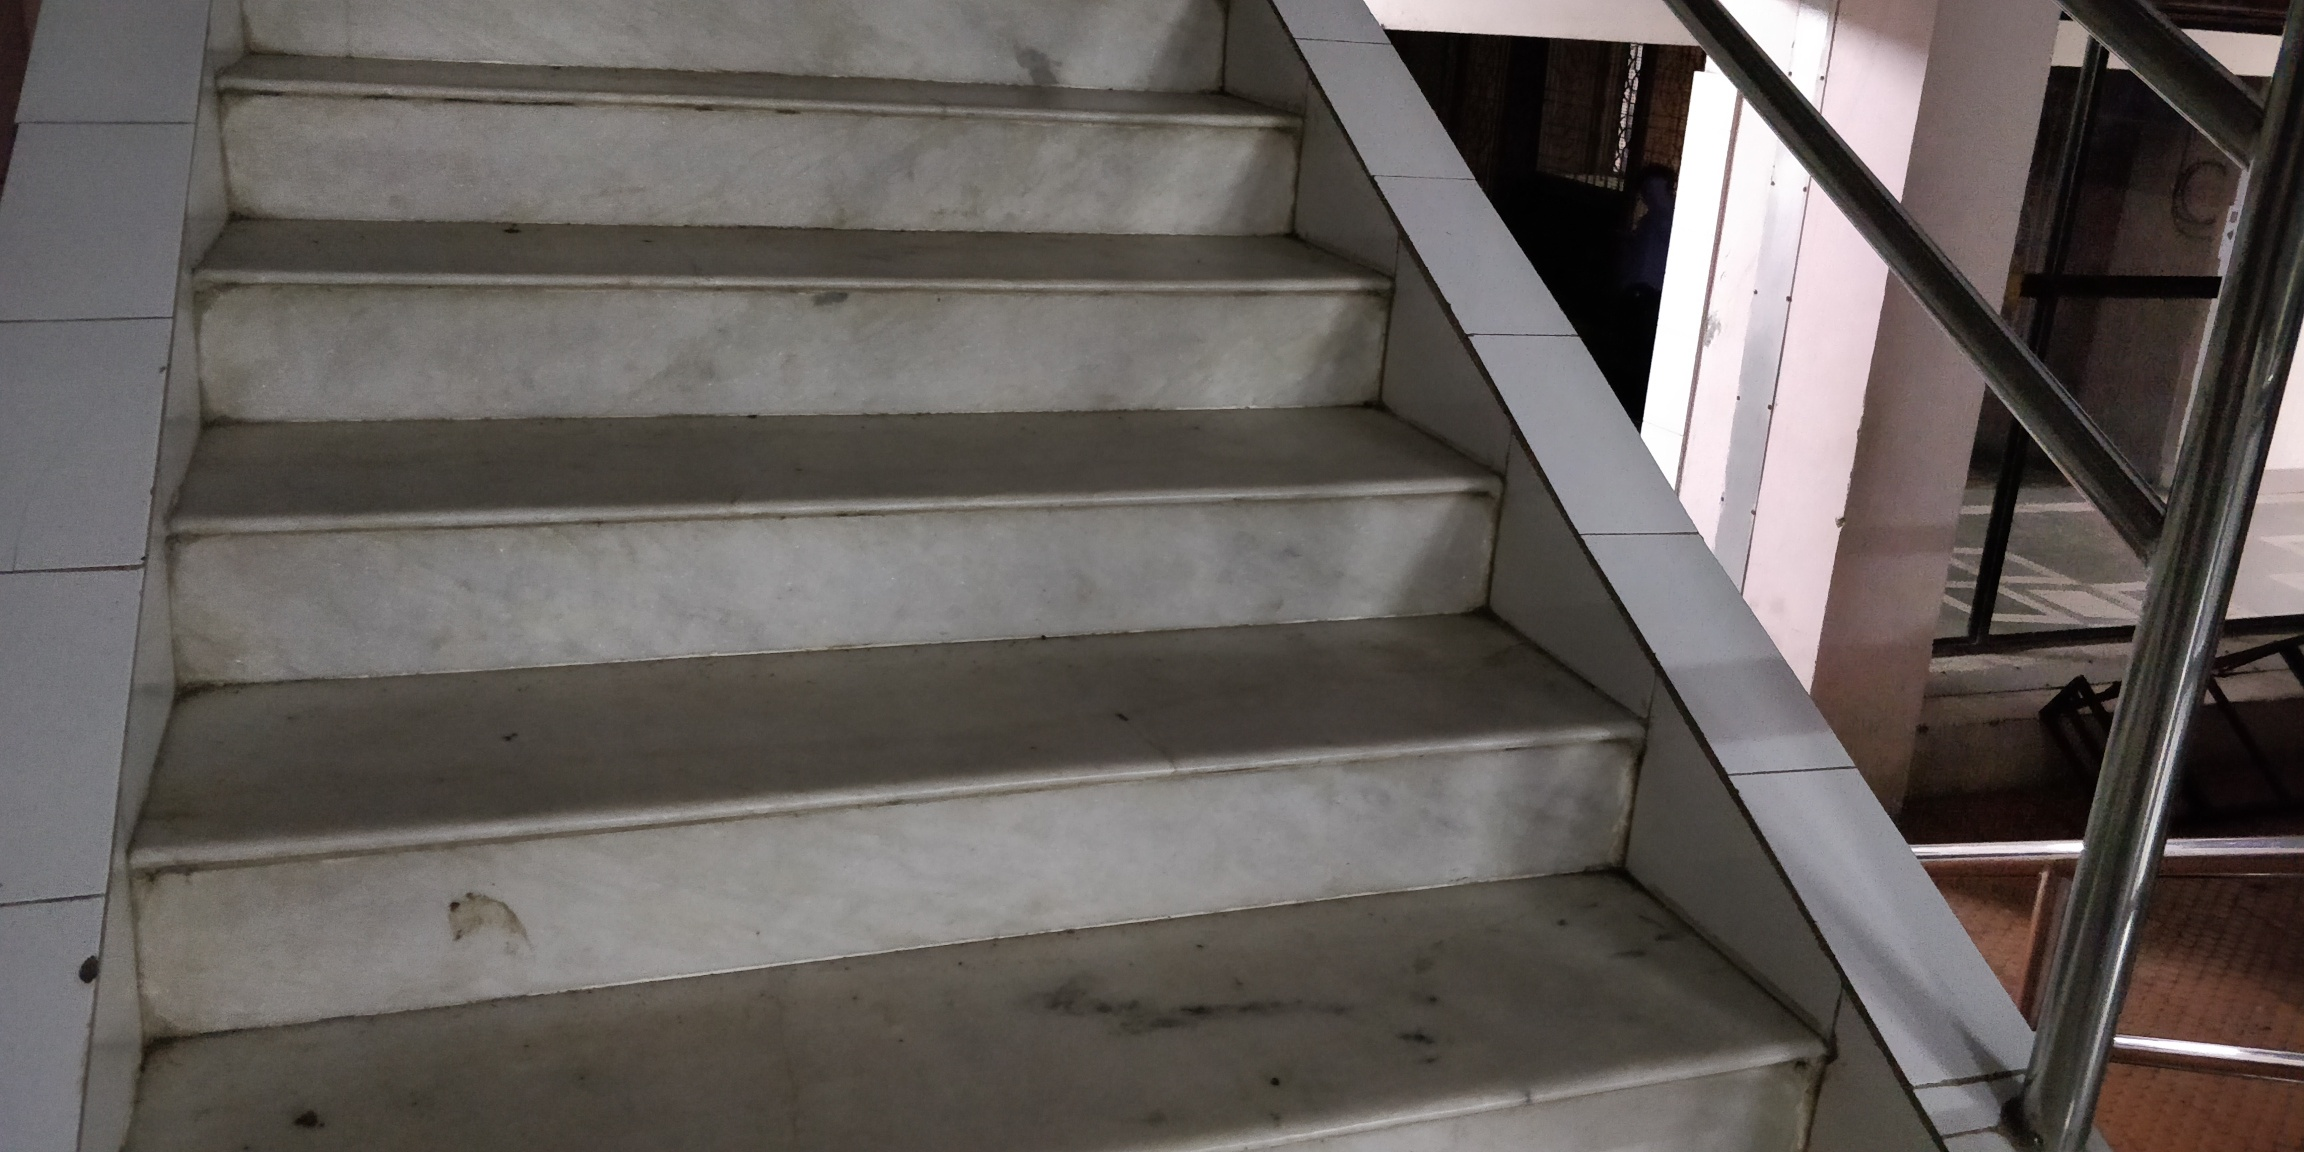stairs_up: (118, 54, 1828, 1152)
